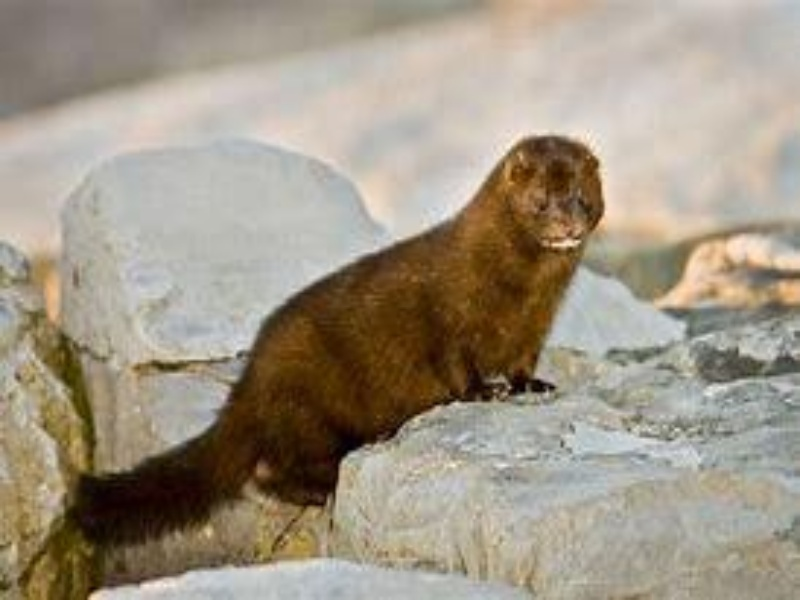minkish: (62, 132, 609, 547)
